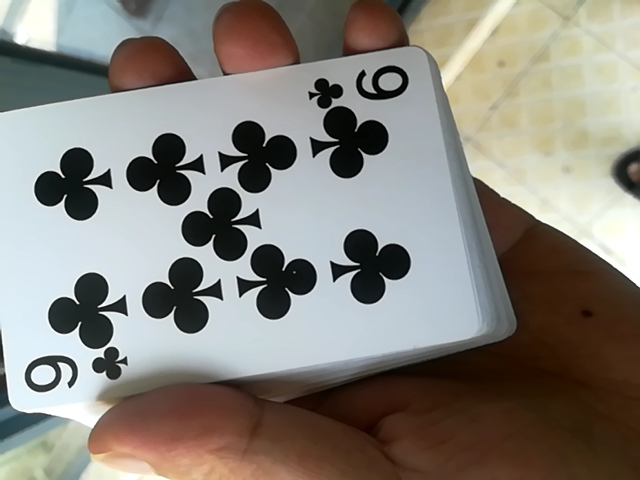mh 9: (6, 44, 493, 420)
